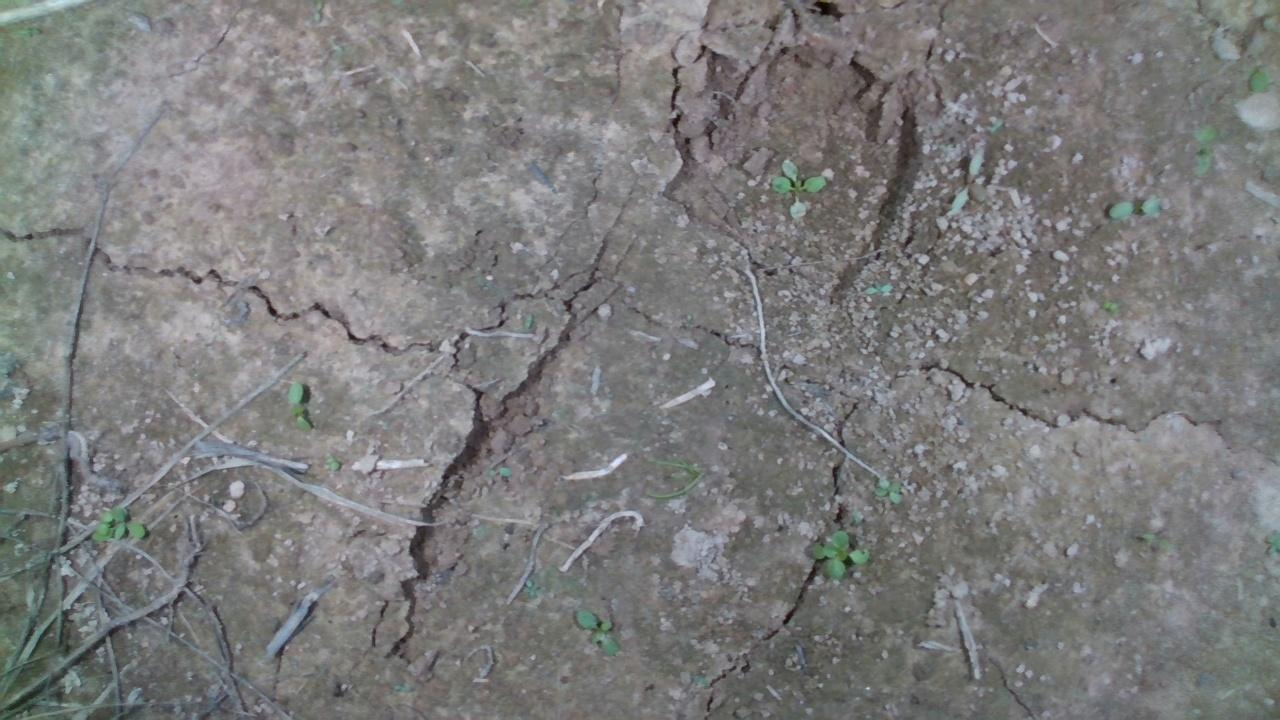weed: (768, 157, 827, 218), (948, 142, 984, 215), (574, 607, 619, 657), (1106, 193, 1163, 219), (286, 379, 312, 431), (872, 473, 902, 502), (326, 457, 340, 471)
